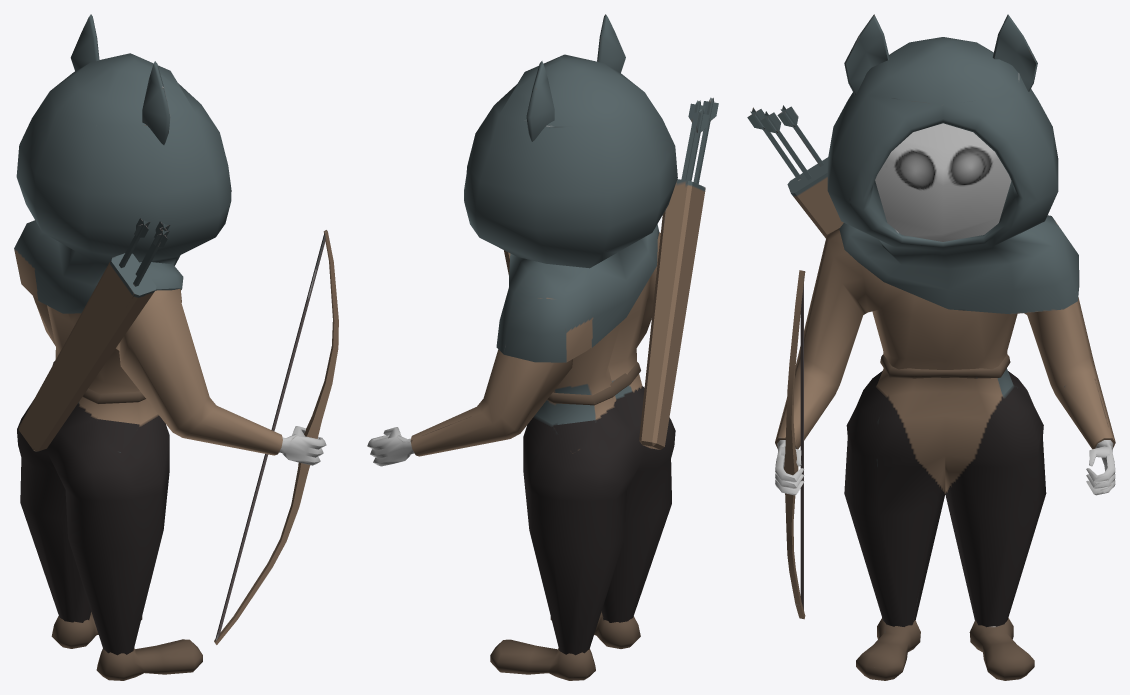
The model's file is ArcherHuman.glb.
3 views of the same model, side by side, from view 1: azimuth 30°, elevation 25°; view 2: azimuth 150°, elevation 25°; view 3: azimuth 270°, elevation 25° (orthographic). The views are drawn at different scales.
Parts seen in each view (by area): view 1: Cube.002; view 2: Cube.002; view 3: Cube.002.
Part boxes in pixels (x1,y1,x2,y2): Cube.002: (14,14,338,680); Cube.002: (367,14,718,680); Cube.002: (747,14,1115,680).
Size of the model in its own units: 0.4025 by 0.9964 by 0.5151.
1 material, 1 textured.
